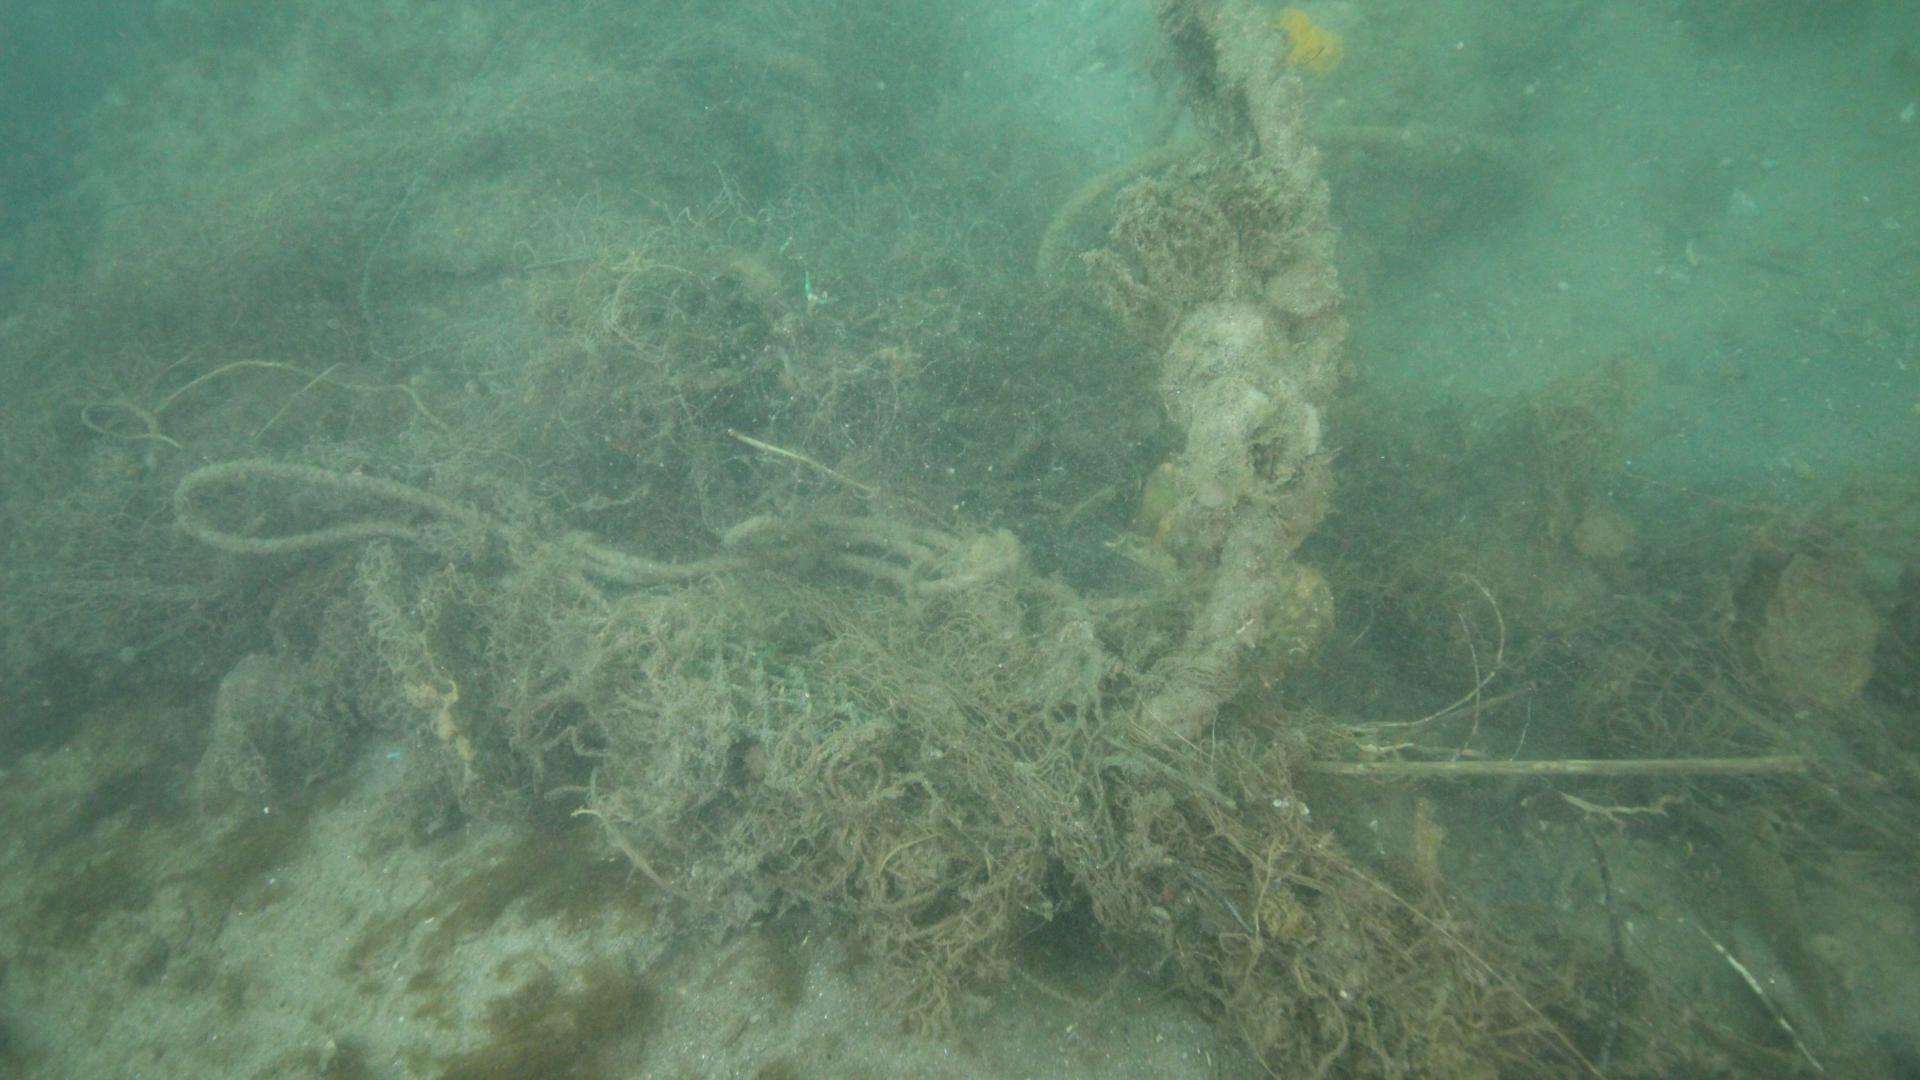bundle of ropes: (1143, 0, 1342, 738), (170, 434, 1025, 597)
fish net: (676, 632, 881, 749)
